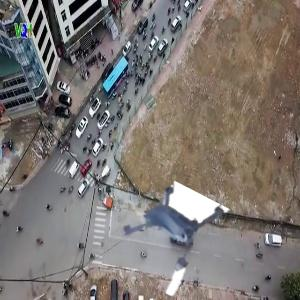drone: (102, 180, 214, 292)
